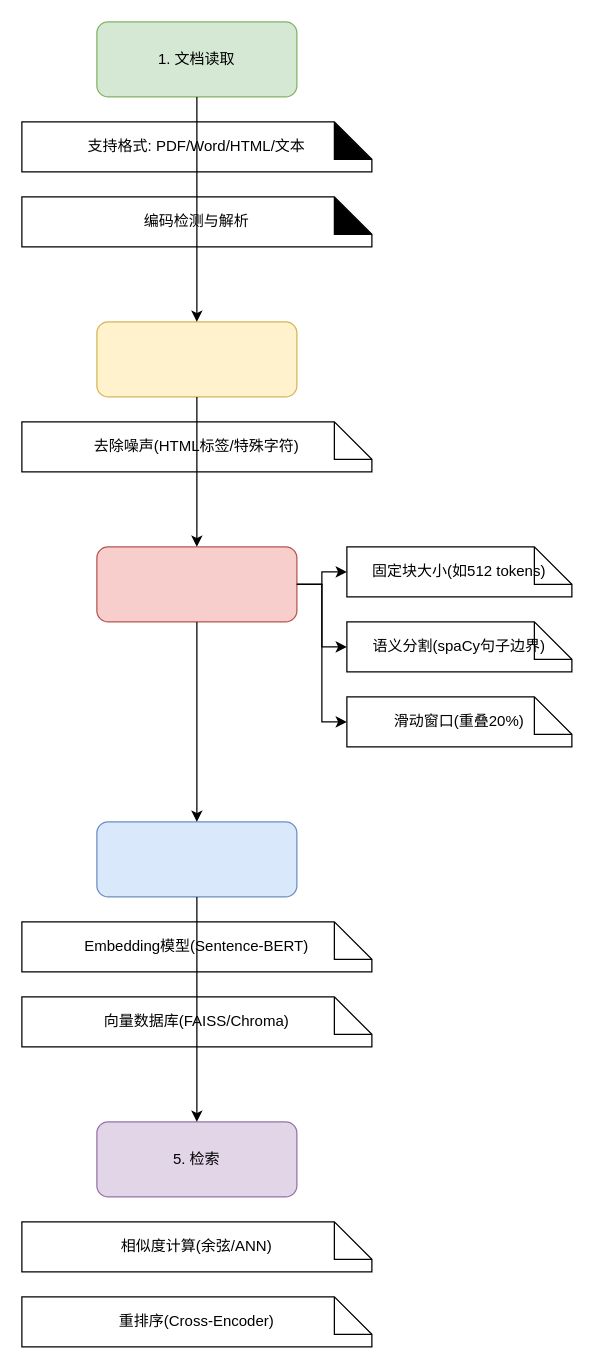
The diagram is 594 pixels wide and 1369 high, and some of its shapes have lost their labels. Each missing label, with the centre of its shape:
"2. 预处理" belongs at point (196, 359).
"3. 文档分割" belongs at point (196, 584).
"4. 向量化与存储" belongs at point (196, 859).
